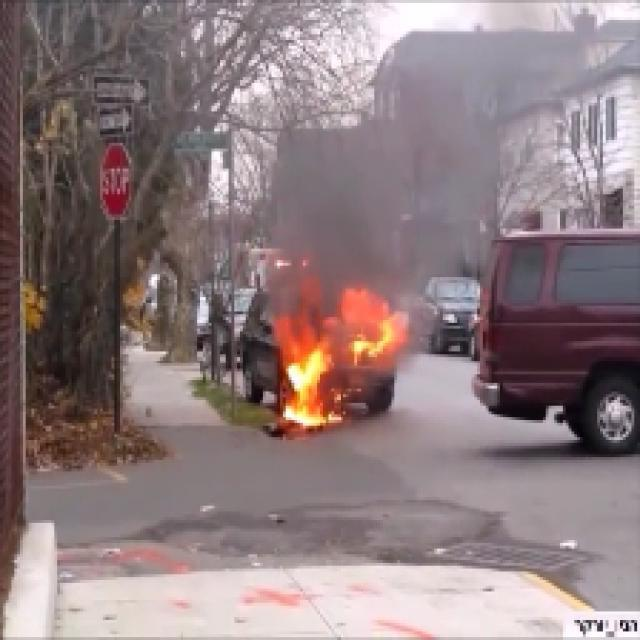Fire: (243, 283, 426, 446)
Smoke: (185, 0, 606, 280)
